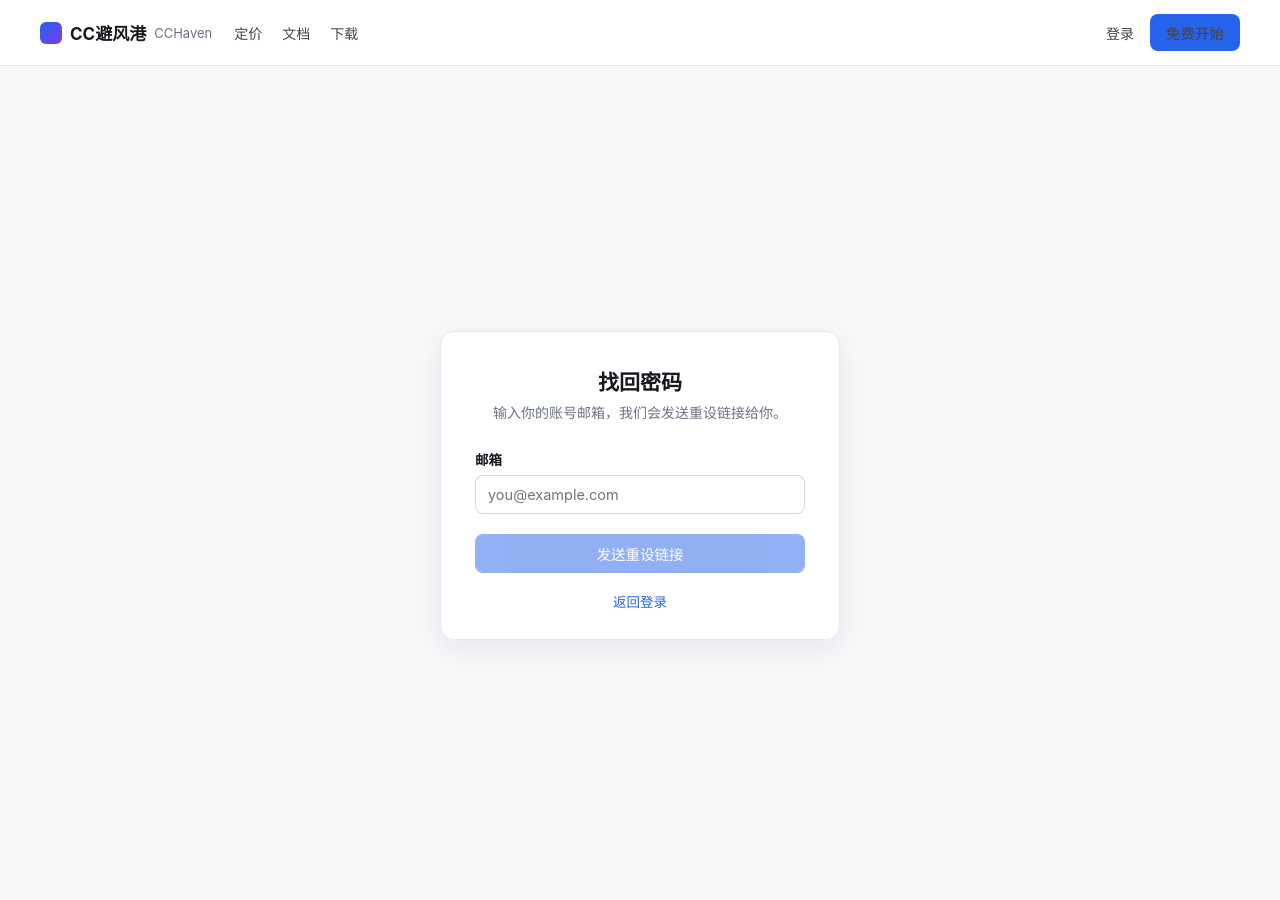
Test: 忘记密码 /forgot-password › 回执态下重复提交按钮进入 60 秒冷却
Type "mary@example.com" into the field labelled "邮箱".
click(640, 494); type("mary@example.com")  # box x1=475 y1=475 x2=805 y2=514
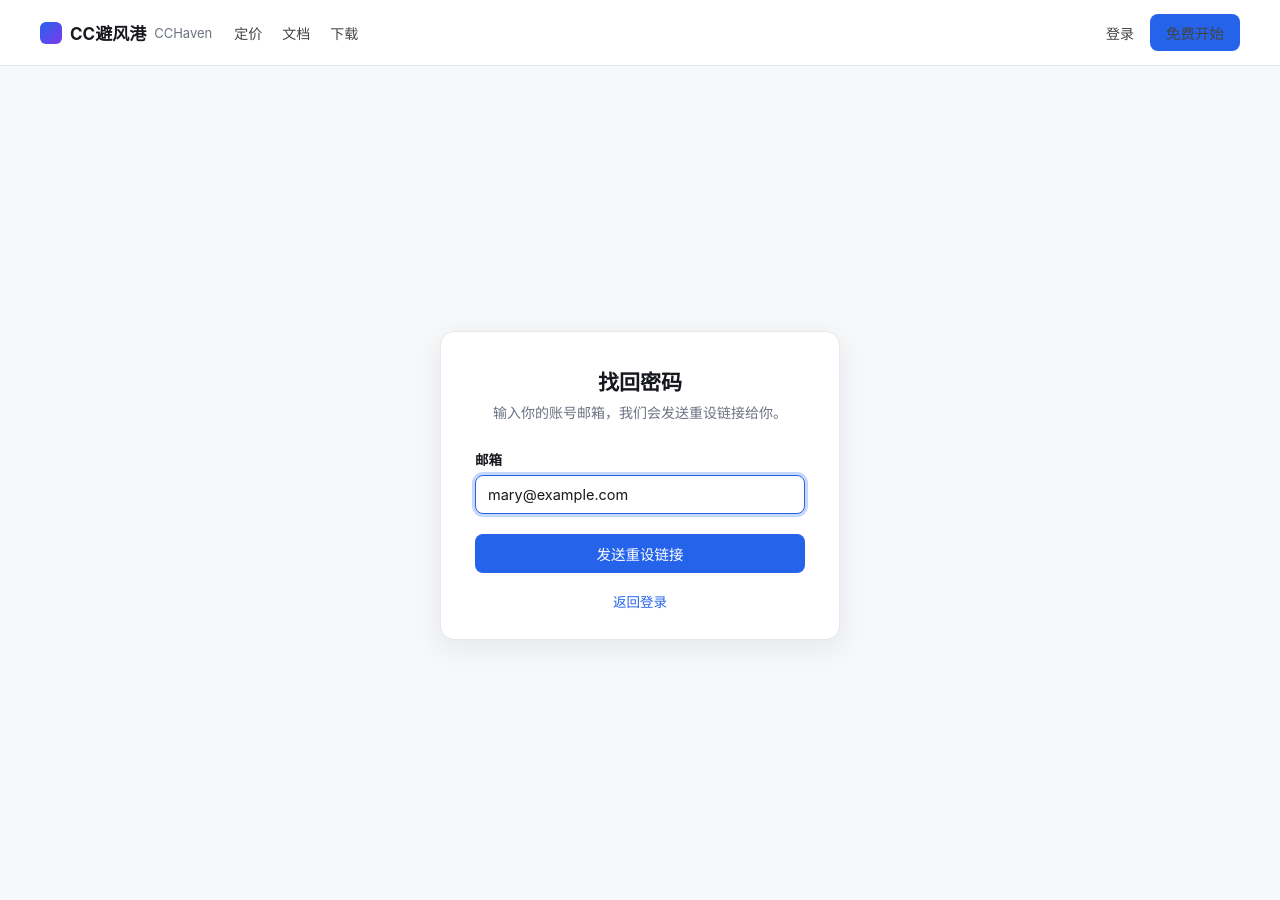
Click the button "发送重设链接".
click(640, 553)  # box x1=475 y1=534 x2=805 y2=573
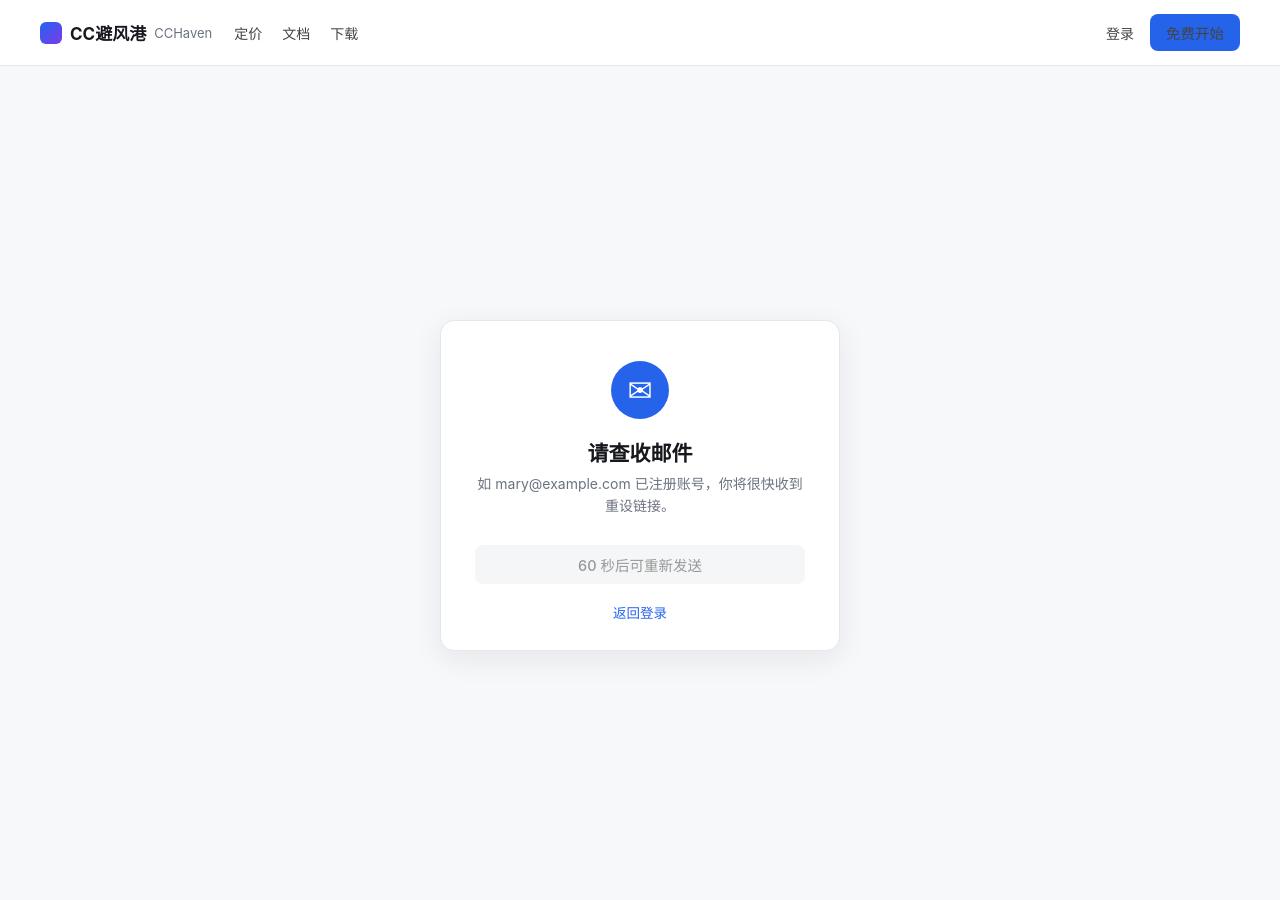
expect the button "60 秒后可重新发送" is disabled: met, box x1=475 y1=545 x2=805 y2=584
